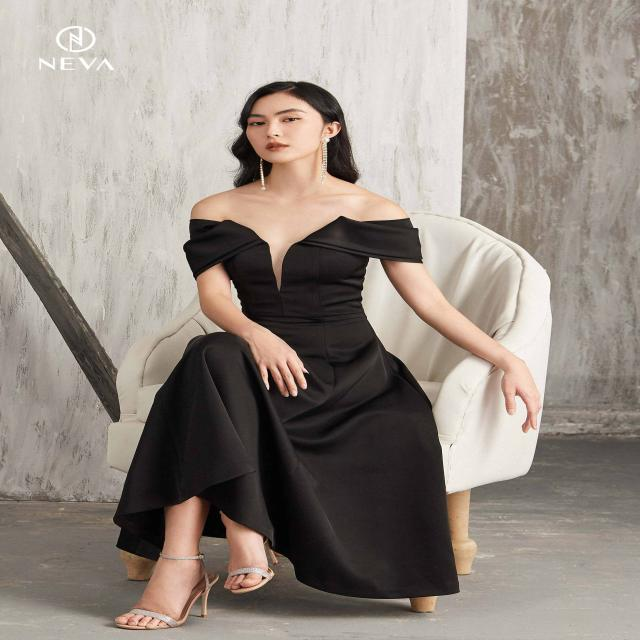clothes: (106, 174, 462, 596)
